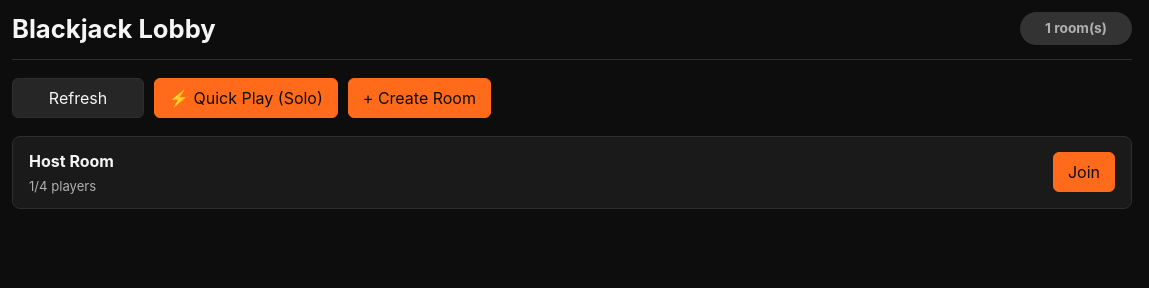
Area 4 - server error responses surface the server message › 409 on join shows the server message in the UI and the app stays usable (not a silent no-op)
Click the button "Join": x=1084, y=172 [1053,152,1115,192]
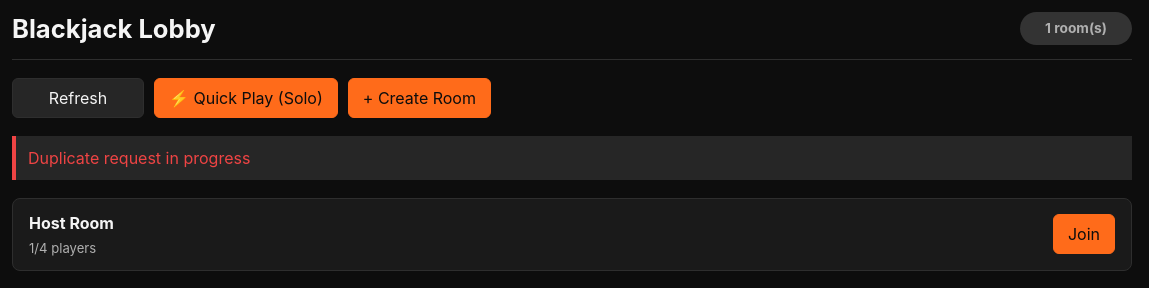
Check: the button "Join" is enabled, box [1053,214,1115,254]
Check: the message reads "Duplicate request in progress", box [28,148,250,168]
